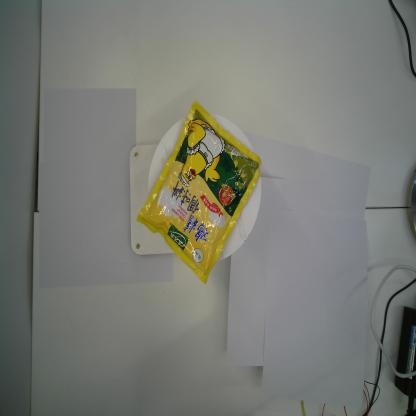Seasoner: (133, 98, 265, 284)
